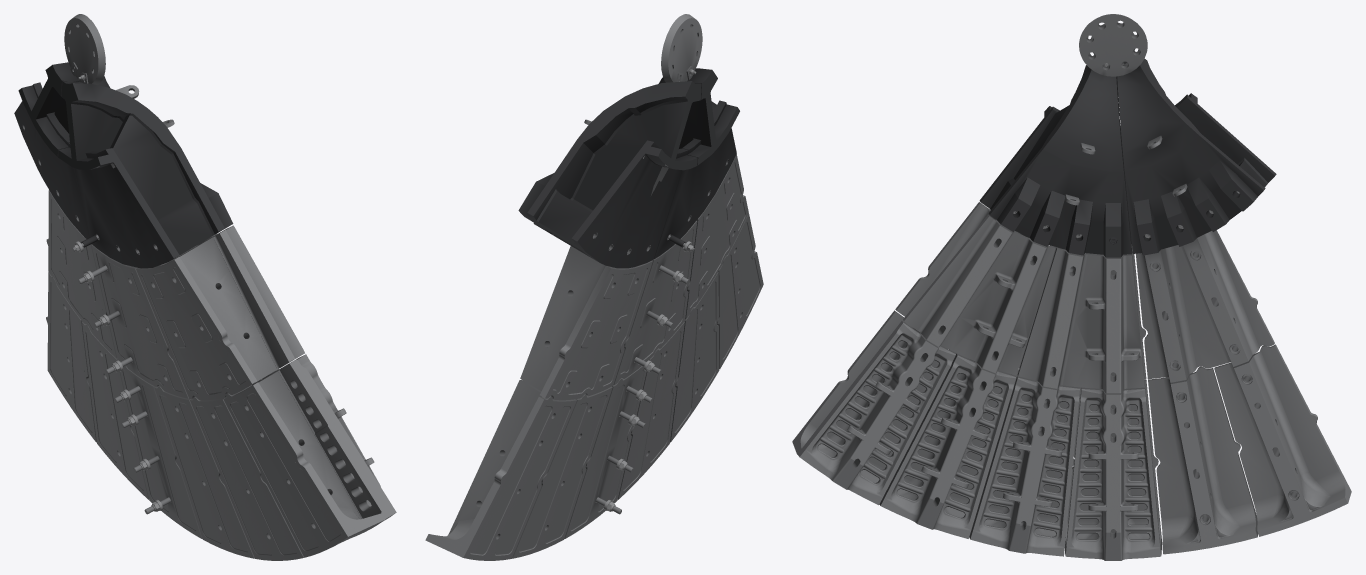
The model's file is sag-de-radial-pulp-lifter.glb.
3 renders of one model, left to right at view 1: azimuth 30°, elevation 25°; view 2: azimuth 150°, elevation 25°; view 3: azimuth 270°, elevation 25°, orthographic. The views are drawn at different scales.
Visible parts, largest first — view 1: metal, rubber, bolt; view 2: metal, rubber, bolt; view 3: metal, rubber.
Boxes of the visible parts, x1,y1,x2,y2 form: metal: (22, 14, 396, 560); rubber: (14, 62, 233, 268); bolt: (73, 74, 162, 511); metal: (425, 14, 763, 560); rubber: (518, 68, 739, 268); bolt: (604, 69, 696, 511); metal: (792, 14, 1351, 560); rubber: (979, 51, 1276, 257).
Size of the model in its own units: 1.79 by 5.11 by 5.27.
Materials: 3 (1 with a texture image).
